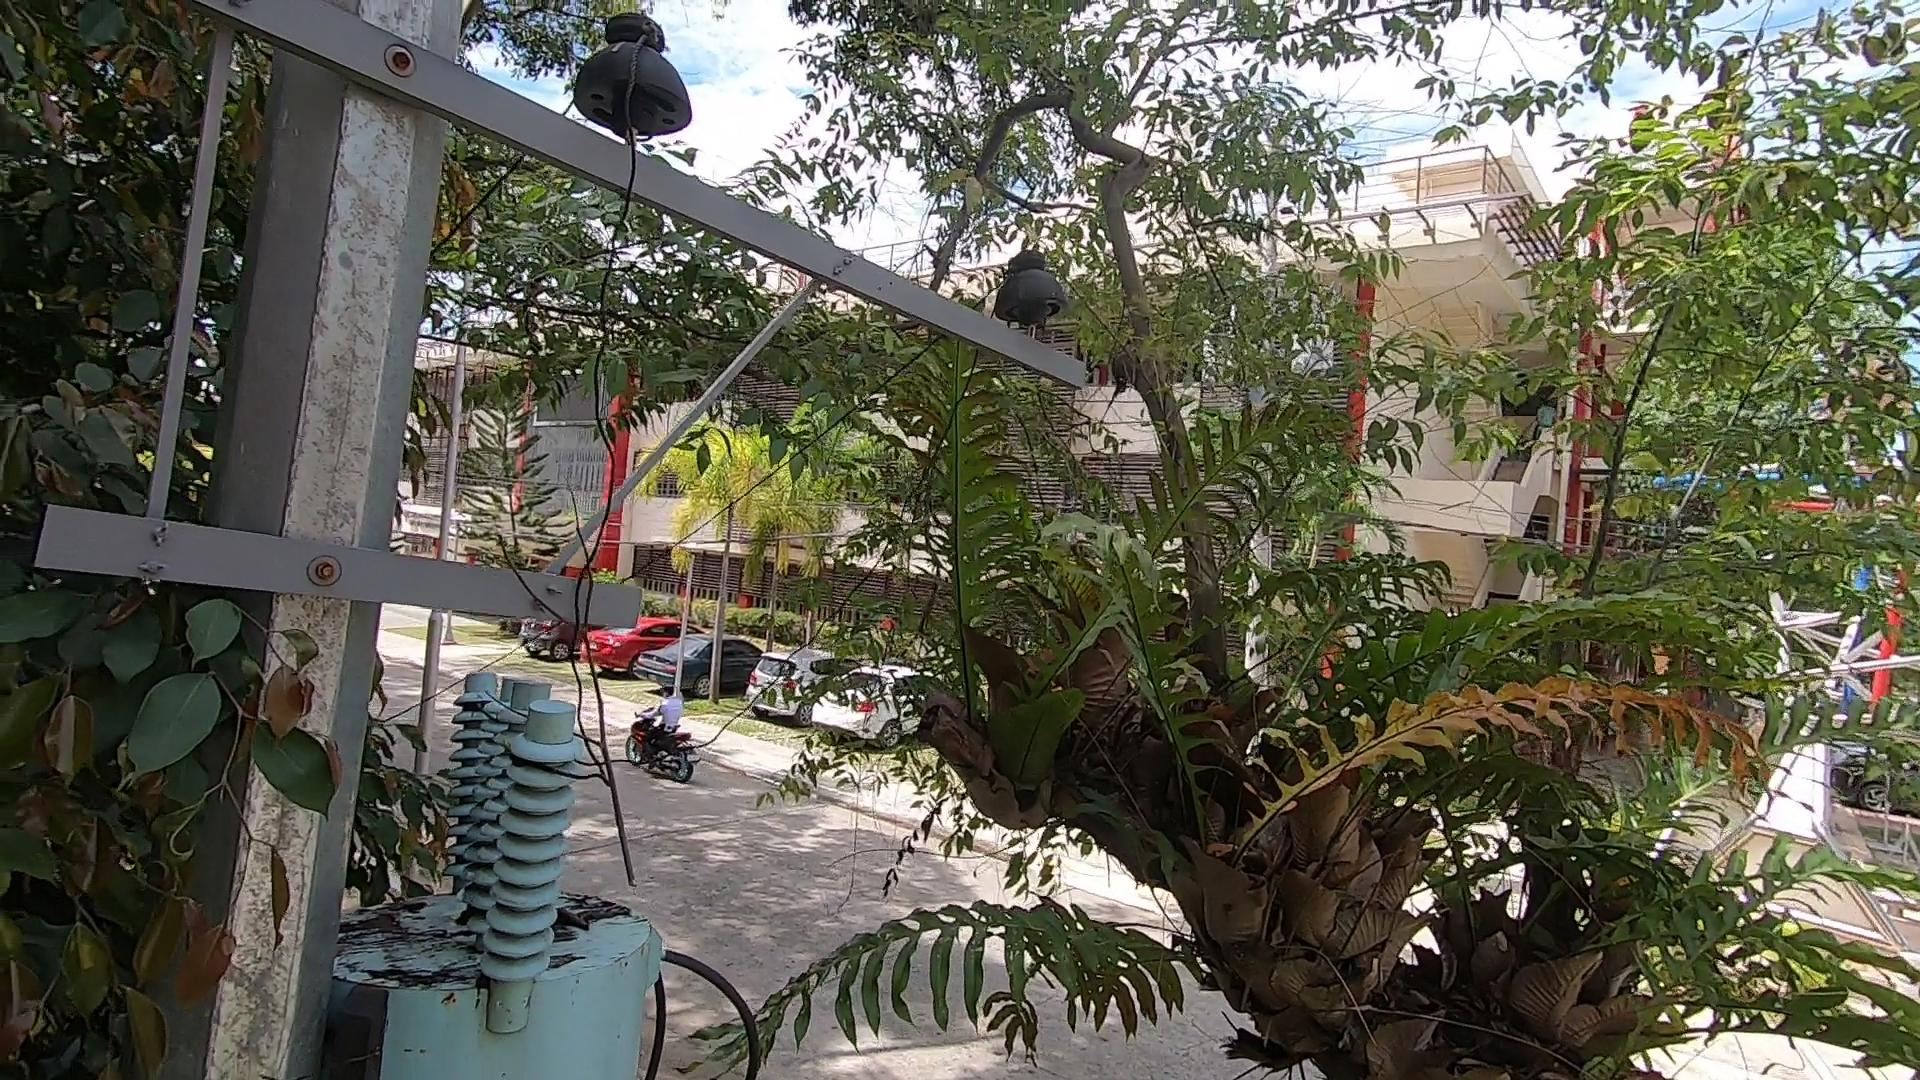leaf: (547, 895, 603, 939)
tree branch: (495, 469, 694, 891)
